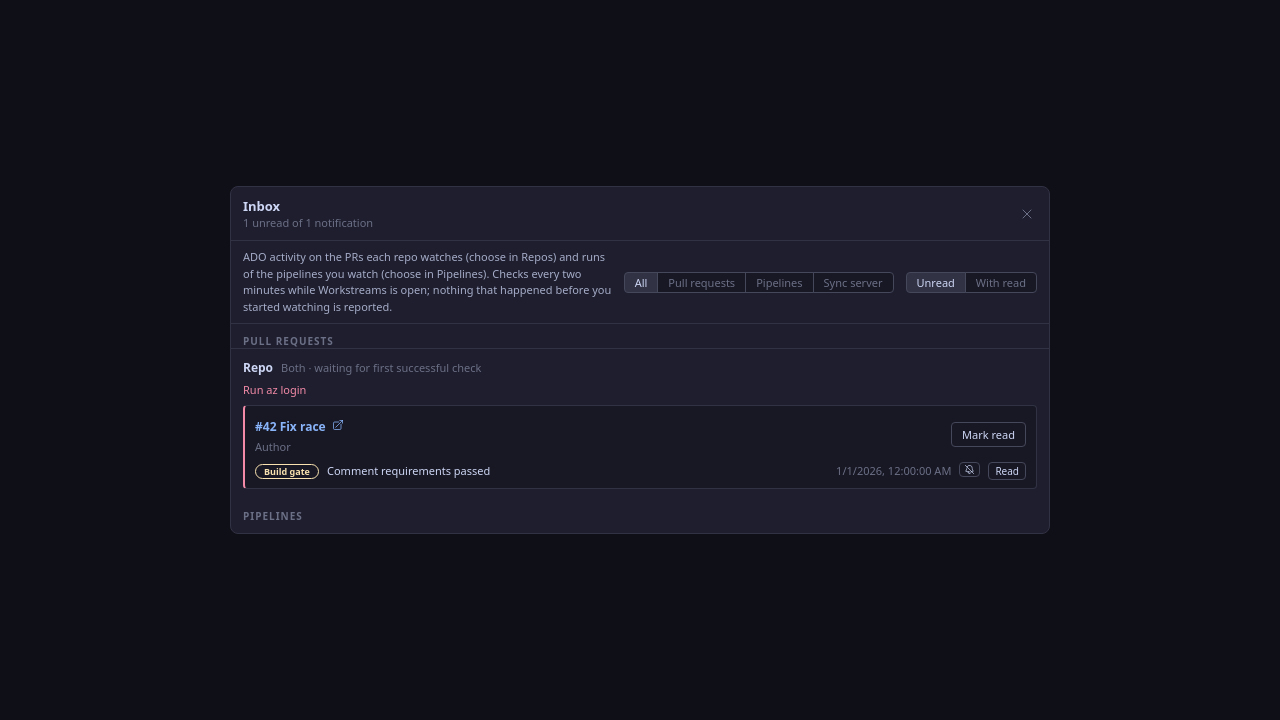
Test: Inbox, pull requests › muting events › reports a failed mute
Click the button named "Stop tracking".
click(970, 470)  # box [959,462,980,477]
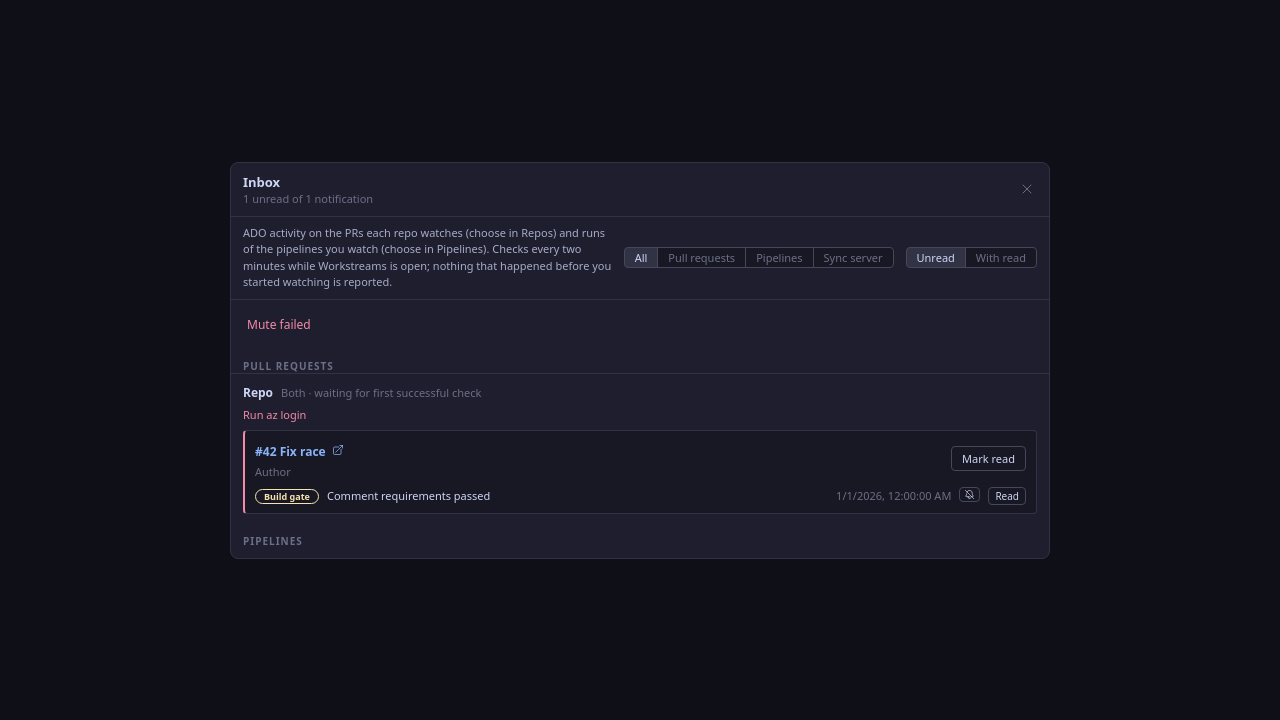
Now the text "Mute failed" is shown, box [247,316,311,332]
